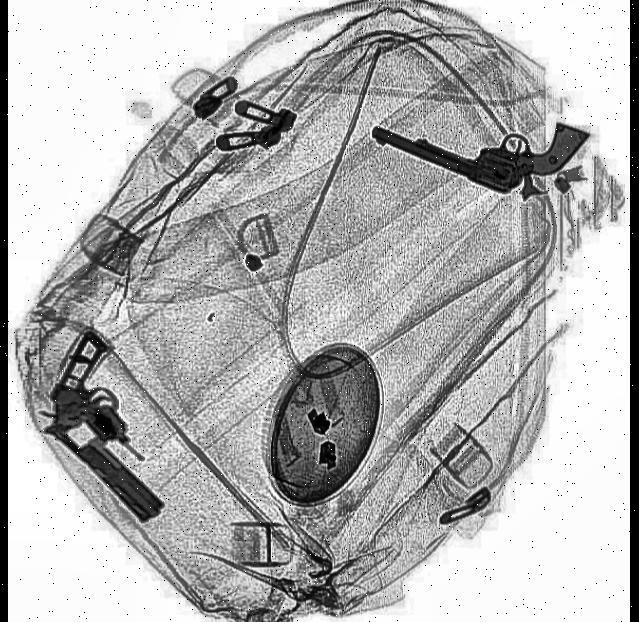Gun: (20, 328, 205, 536), (368, 54, 588, 219)
